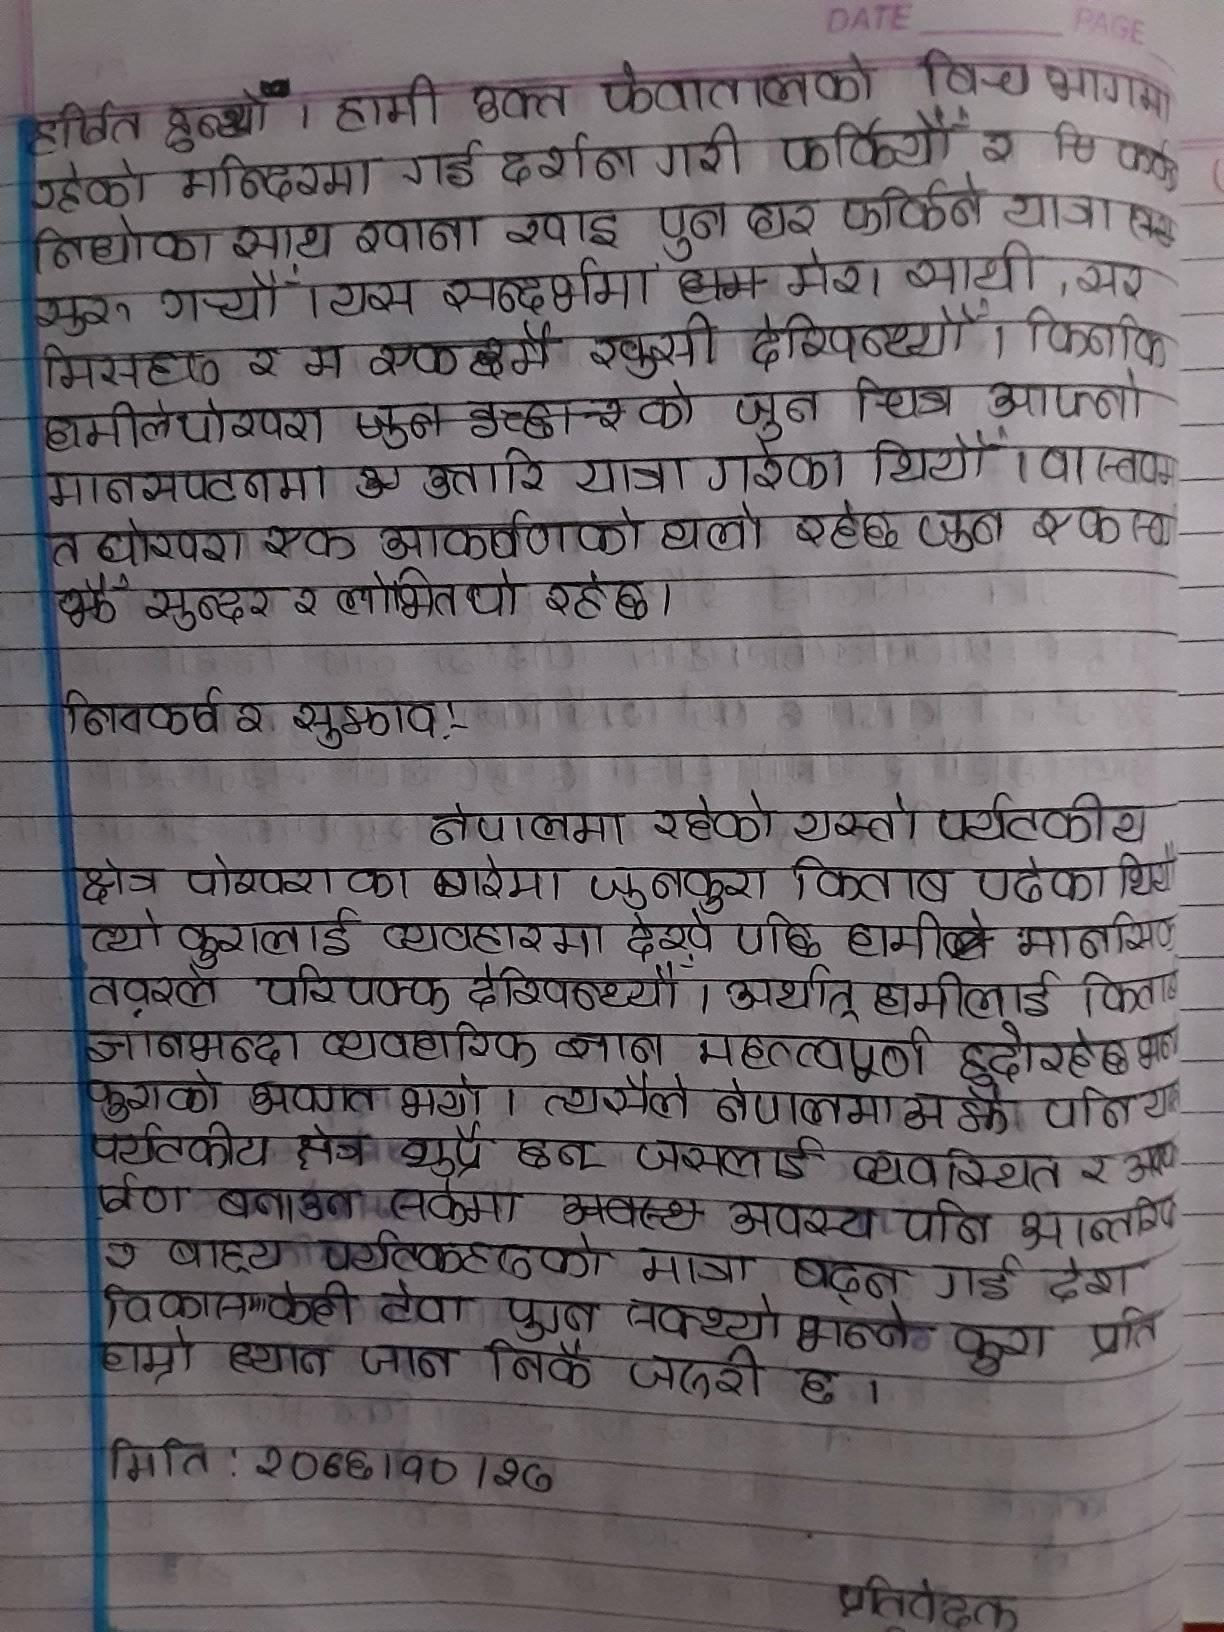text: (248, 1435, 559, 1503), (593, 48, 883, 120), (312, 1223, 609, 1284), (746, 303, 986, 377), (693, 1019, 936, 1088), (375, 508, 651, 564), (96, 1273, 357, 1331), (35, 461, 336, 511), (440, 251, 658, 319), (935, 783, 1155, 849), (174, 900, 370, 970), (845, 1140, 1068, 1200), (365, 316, 555, 384), (329, 563, 528, 627), (420, 797, 629, 857), (175, 851, 413, 903), (318, 1019, 537, 1076), (170, 149, 388, 206), (953, 1016, 1131, 1085), (249, 960, 455, 1019), (771, 113, 972, 173), (462, 959, 685, 1013), (825, 1572, 1025, 1632), (630, 1126, 822, 1187), (980, 364, 1156, 430), (706, 1074, 896, 1136), (174, 386, 330, 460), (30, 216, 219, 278), (30, 333, 222, 393), (86, 1019, 309, 1070), (1016, 299, 1170, 371), (82, 1115, 273, 1173), (786, 849, 958, 912), (833, 170, 989, 239), (378, 916, 609, 962), (1014, 1193, 1180, 1257), (1040, 50, 1178, 127), (152, 260, 306, 328), (57, 681, 225, 743), (582, 860, 771, 914), (869, 968, 1058, 1022), (582, 307, 720, 380), (616, 1290, 786, 1347), (719, 1191, 882, 1249), (723, 959, 865, 1024), (899, 236, 1047, 299), (498, 127, 639, 193), (702, 433, 849, 496), (138, 577, 285, 639), (283, 694, 444, 750), (540, 1070, 692, 1130), (969, 846, 1110, 909), (86, 517, 249, 571), (1005, 910, 1176, 961), (1038, 430, 1176, 493), (625, 1340, 769, 1401), (789, 789, 924, 853), (30, 396, 176, 454), (649, 786, 779, 851), (82, 1067, 226, 1124), (861, 434, 1002, 493), (84, 960, 222, 1019), (379, 1176, 528, 1230), (1025, 501, 1180, 553), (242, 1070, 388, 1124), (918, 40, 1038, 105), (789, 1299, 922, 1357), (429, 853, 570, 907), (215, 1178, 365, 1228), (26, 96, 145, 159), (996, 184, 1120, 244), (159, 90, 273, 155), (418, 447, 549, 504), (348, 209, 492, 261), (458, 389, 585, 447), (28, 157, 149, 217), (329, 73, 449, 134), (945, 1311, 1053, 1378), (540, 565, 658, 626), (845, 368, 960, 429), (792, 493, 905, 556), (899, 1081, 1012, 1144), (780, 244, 888, 310), (483, 1331, 598, 1393), (660, 497, 770, 560), (99, 1429, 212, 1489), (786, 1250, 908, 1306), (636, 1240, 755, 1297), (894, 1193, 1000, 1254), (652, 116, 748, 184), (222, 1333, 336, 1390), (158, 1230, 294, 1277), (93, 1329, 202, 1387), (570, 450, 696, 500), (499, 206, 627, 254), (846, 906, 946, 968), (496, 1286, 602, 1344), (729, 386, 828, 446), (350, 1336, 463, 1389), (912, 496, 1008, 556), (1041, 1253, 1148, 1307), (370, 1277, 474, 1333), (1074, 969, 1185, 1020), (653, 193, 732, 266), (465, 78, 579, 129), (928, 1249, 1022, 1309), (226, 215, 342, 263), (626, 903, 715, 966), (89, 1169, 198, 1220), (395, 1123, 492, 1178), (1077, 1306, 1162, 1369), (75, 853, 168, 910), (396, 137, 489, 194), (327, 274, 426, 326), (30, 290, 132, 341), (260, 519, 360, 569), (738, 194, 825, 251), (509, 1130, 608, 1178), (550, 1027, 670, 1067), (289, 1121, 375, 1176), (46, 573, 129, 631), (1039, 1085, 1135, 1133), (730, 912, 825, 961), (354, 401, 446, 451), (1068, 251, 1152, 306), (395, 1073, 489, 1119), (636, 377, 705, 439), (82, 911, 168, 959), (789, 1360, 846, 1416), (220, 696, 280, 743), (298, 334, 348, 389), (238, 344, 291, 386), (978, 120, 1018, 173), (39, 527, 85, 571), (288, 576, 327, 627), (1077, 1149, 1119, 1196), (99, 1234, 147, 1271), (595, 395, 629, 434)
